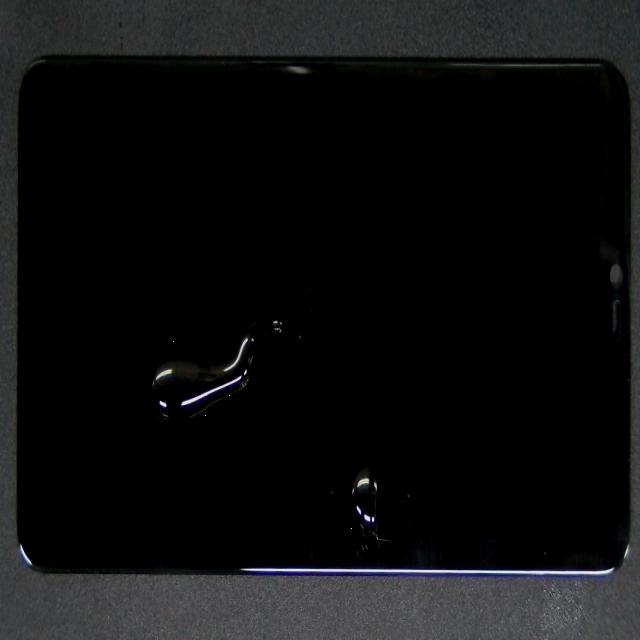oil: (201, 251, 561, 640), (142, 150, 334, 513)
